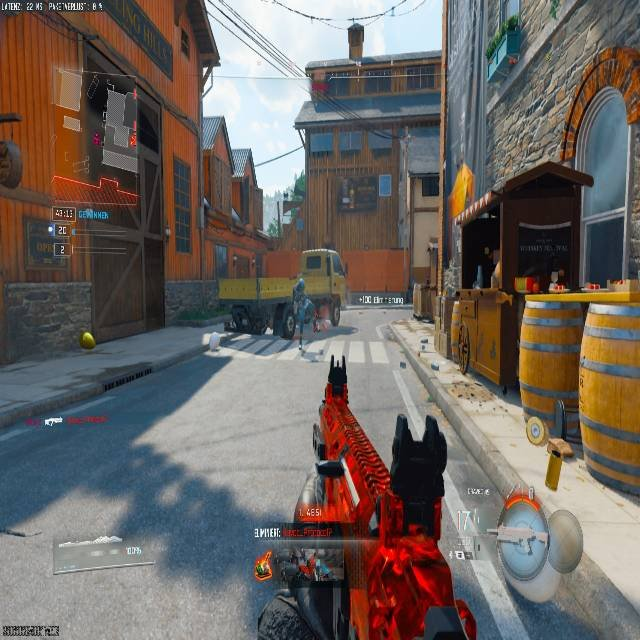player: (288, 278, 317, 358)
